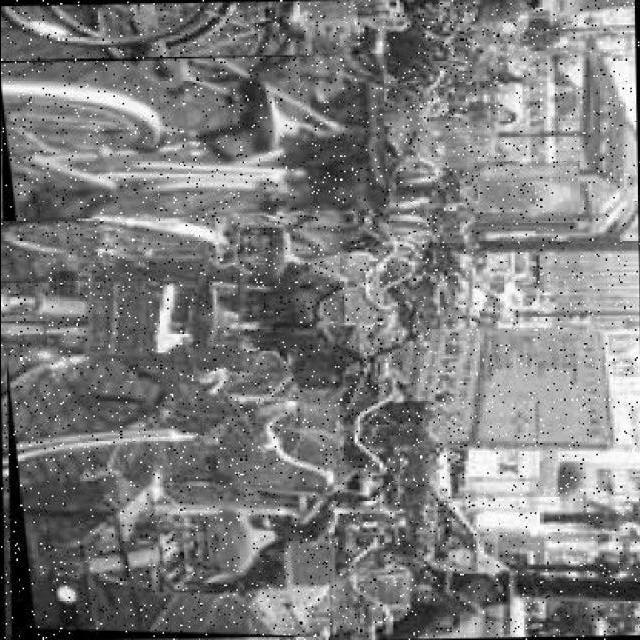bicycle: (4, 351, 330, 640), (3, 54, 387, 223)
